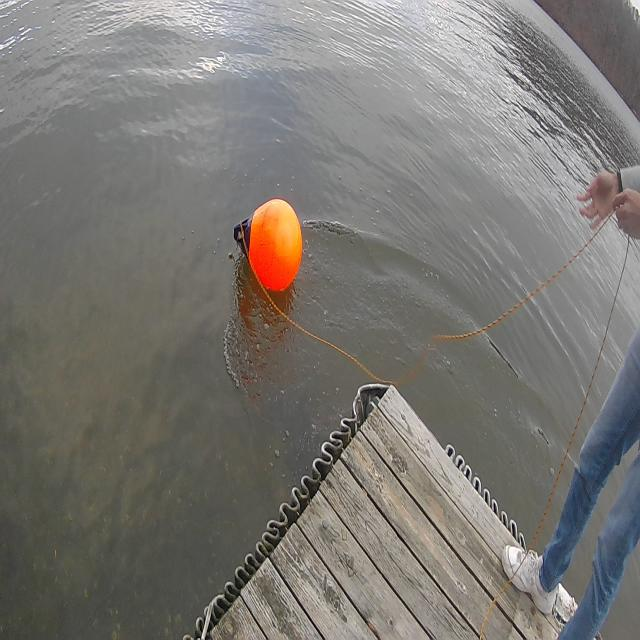Buoy: (230, 192, 304, 297)
